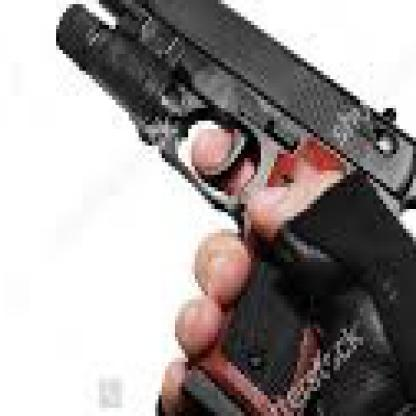gun: (50, 0, 413, 412)
